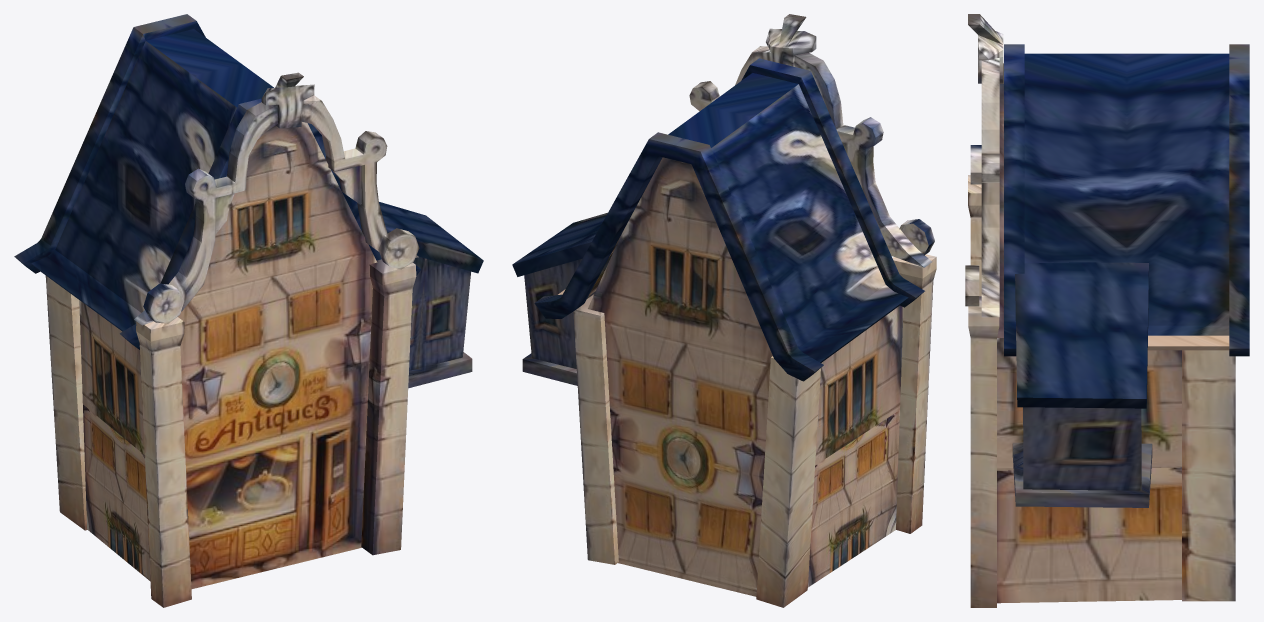
File: watchmaker.glb
3 renders of one model, left to right at view 1: azimuth 30°, elevation 25°; view 2: azimuth 150°, elevation 25°; view 3: azimuth 270°, elevation 25°, orthographic. The views are drawn at different scales.
Parts seen in each view (by area): view 1: h6; view 2: h6; view 3: h6.
Part boxes in pixels (x1,y1,x2,y2): h6: (14, 14, 483, 607); h6: (512, 14, 936, 607); h6: (965, 14, 1249, 607).
Size of the model in its own units: 2.13 by 2.8 by 1.35.
1 material, 1 textured.
